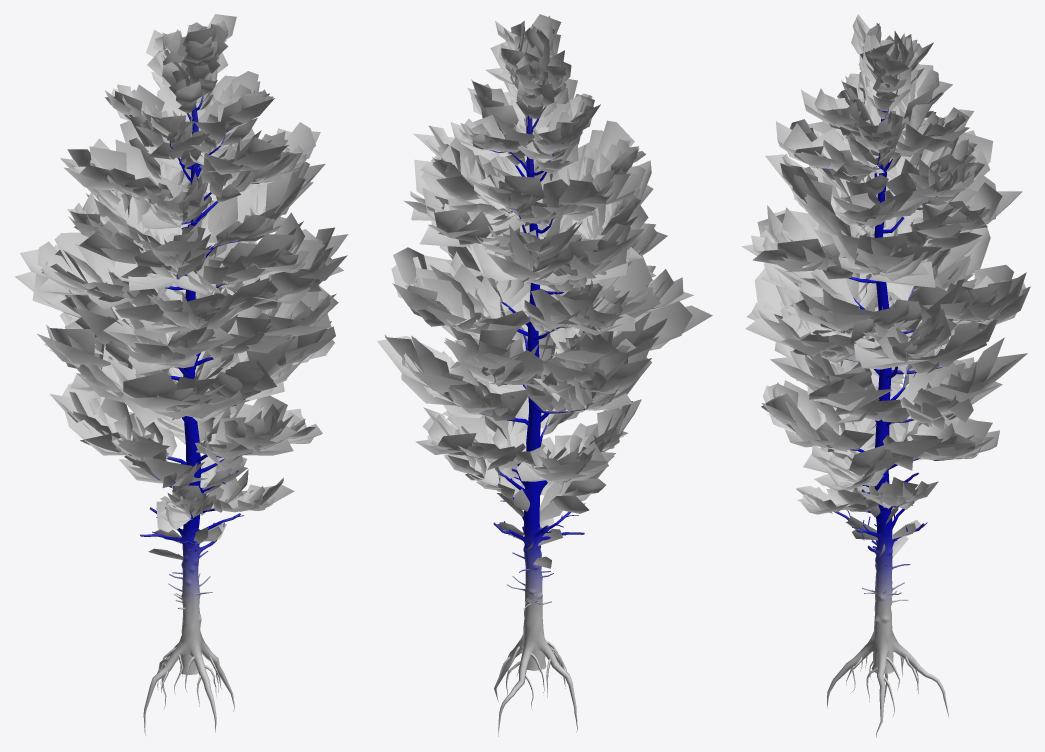
File: Pine_01_LOD0.fbx
3 renders of one model, left to right at view 1: azimuth 30°, elevation 25°; view 2: azimuth 150°, elevation 25°; view 3: azimuth 270°, elevation 25°, orthographic.
Visible parts, largest first — view 1: polySurface2858; view 2: polySurface2858; view 3: polySurface2858.
Boxes of the visible parts, x1,y1,x2,y2 form: polySurface2858: [14, 14, 348, 735]; polySurface2858: [377, 14, 712, 736]; polySurface2858: [741, 14, 1030, 737].
Bounding box in the file's own units: 1123 × 2794 × 1038.
